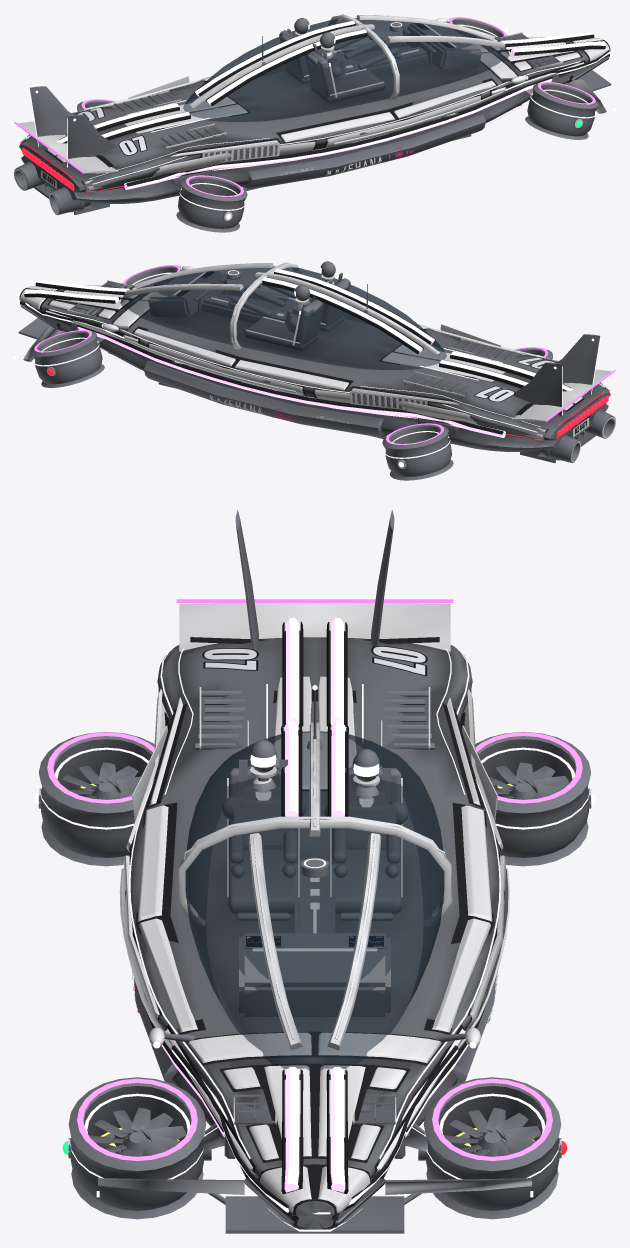
The model's file is hover328.glb.
3 views of the same model, one above another, from view 1: azimuth 30°, elevation 25°; view 2: azimuth 150°, elevation 25°; view 3: azimuth 270°, elevation 25° (orthographic). The views are drawn at different scales.
Visible parts, largest first — view 1: h235-trim, h235-chassis, h235-glass, h235-body, h235-livery, h235-tube, h235-chrome, h235-accent, h235-decal, h235-glow, h235-tail; view 2: h235-trim, h235-chassis, h235-glass, h235-body, h235-livery, h235-tube, h235-chrome, h235-accent, h235-decal, h235-glow, h235-tail; view 3: h235-trim, h235-chassis, h235-body, h235-glass, h235-livery, h235-tube, h235-glow, h235-chrome, h235-accent, h161-rotor-1, h161-rotor-0, h235-decal (+4 smaller).
Part boxes in pixels (x1,y1,x2,y2): h235-trim: (14, 18, 611, 232); h235-chassis: (19, 37, 605, 203); h235-glass: (183, 18, 509, 121); h235-body: (18, 15, 609, 192); h235-livery: (22, 24, 610, 192); h235-tube: (56, 21, 605, 189); h235-chrome: (14, 14, 582, 220); h235-accent: (29, 18, 615, 210); h235-decal: (40, 23, 454, 189); h235-glow: (14, 17, 595, 199); h235-tail: (20, 141, 125, 192); h235-trim: (18, 261, 615, 480); h235-chassis: (21, 285, 610, 451); h235-glass: (120, 266, 446, 369); h235-body: (20, 263, 611, 440); h235-livery: (19, 272, 607, 440); h235-tube: (24, 269, 573, 437); h235-chrome: (47, 262, 615, 468); h235-accent: (14, 266, 600, 458); h235-decal: (175, 271, 589, 437); h235-glow: (34, 265, 615, 444); h235-tail: (504, 389, 609, 440); h235-trim: (38, 510, 591, 1233); h235-chassis: (125, 637, 504, 1229); h235-body: (98, 603, 531, 1229); h235-glass: (185, 731, 444, 1070); h235-livery: (129, 622, 500, 1229); h235-tube: (161, 617, 468, 1193); h235-glow: (47, 599, 582, 1160); h235-chrome: (38, 687, 591, 1157); h235-accent: (39, 605, 590, 1197); h161-rotor-1: (88, 1107, 186, 1156); h161-rotor-0: (443, 1107, 541, 1156); h235-decal: (132, 646, 497, 1023).
Bounding box in the file's own units: 4.86 × 1.07 × 2.07.
Materials: 17 (1 with a texture image).
